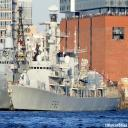Fragata: (7, 18, 123, 114)
